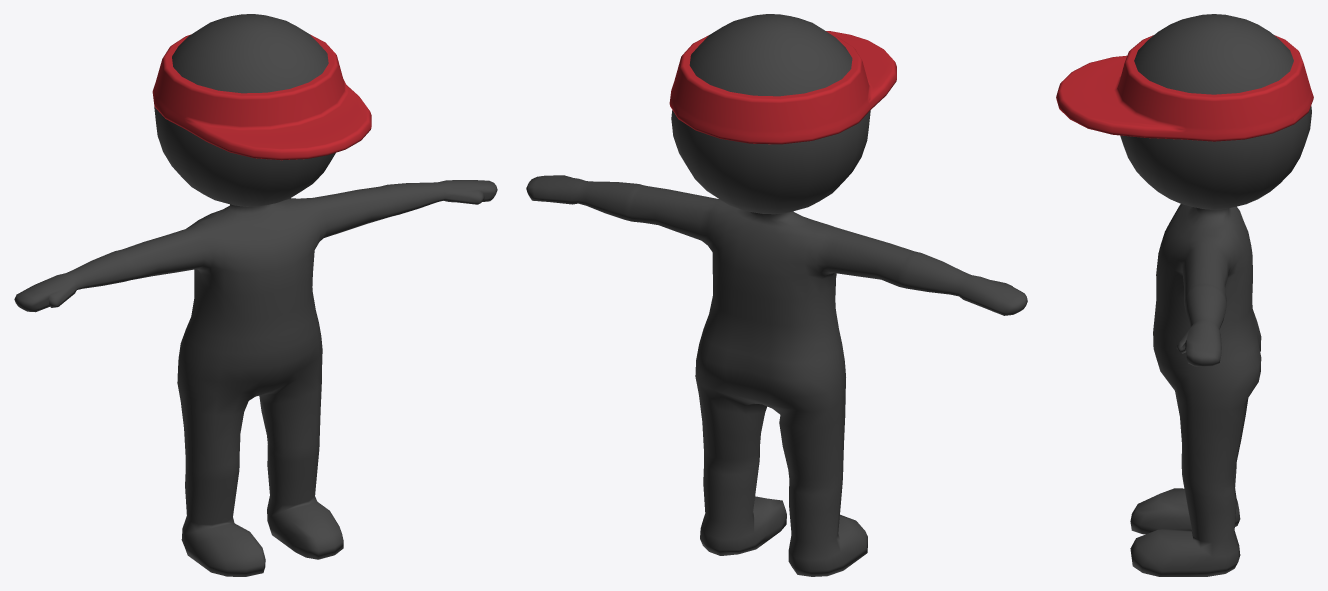
The model's file is stickman.fbx.
The picture shows the model from 3 angles, left to right: view 1: azimuth 30°, elevation 25°; view 2: azimuth 150°, elevation 25°; view 3: azimuth 270°, elevation 25°; orthographic projection. The views are drawn at different scales.
Visible parts, largest first — view 1: Stickman; view 2: Stickman; view 3: Stickman.
Part boxes in pixels (box(x1,y1,x2,y2)): Stickman: box(14, 14, 497, 576); Stickman: box(526, 14, 1027, 576); Stickman: box(1056, 14, 1313, 576).
Size of the model in its own units: 41.89 by 43.04 by 19.3.
